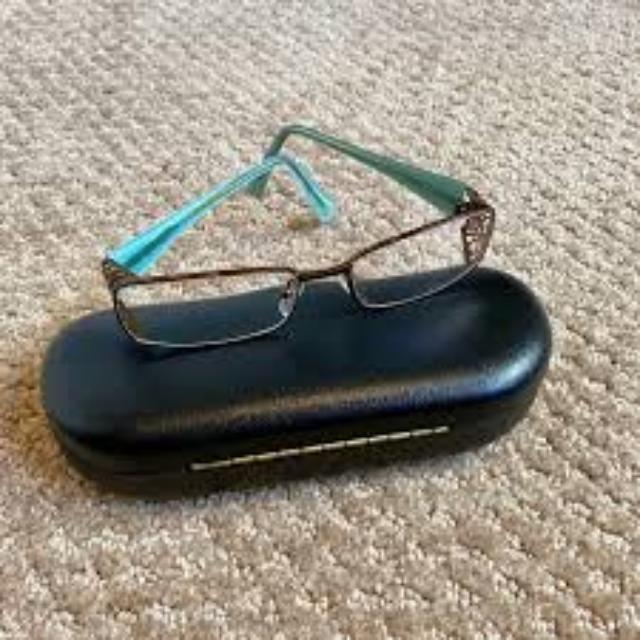glasses: (98, 122, 500, 350)
